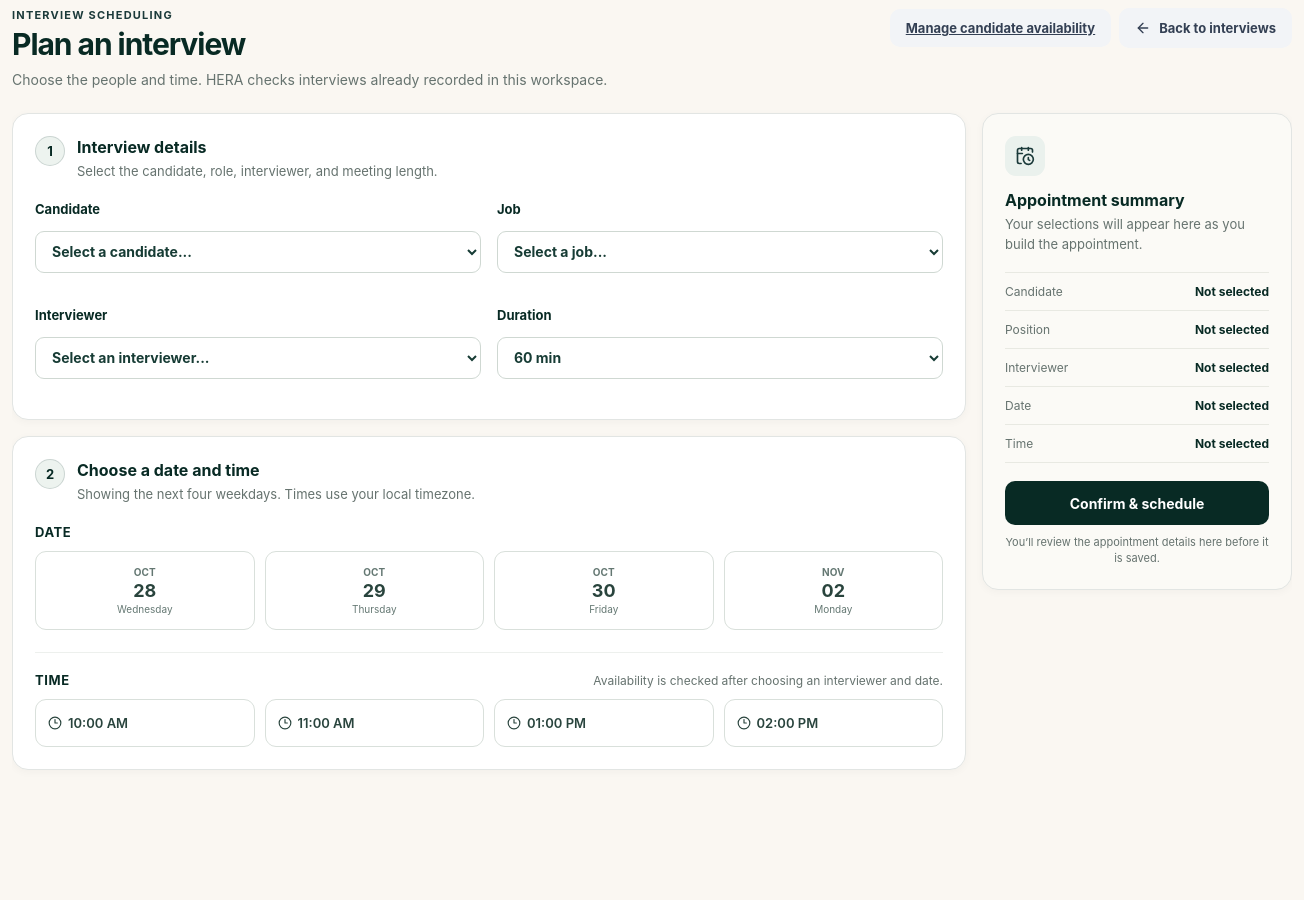
Test: ScheduleInterview › reports availability and scheduling failures without implying success
Expected: the heading "Interview details" is shown, [77, 137, 207, 157]
Select "Ada Lovelace — Engineer" in the dropdown labelled "Candidate" at {"x": 258, "y": 252}, box [35, 231, 481, 273]
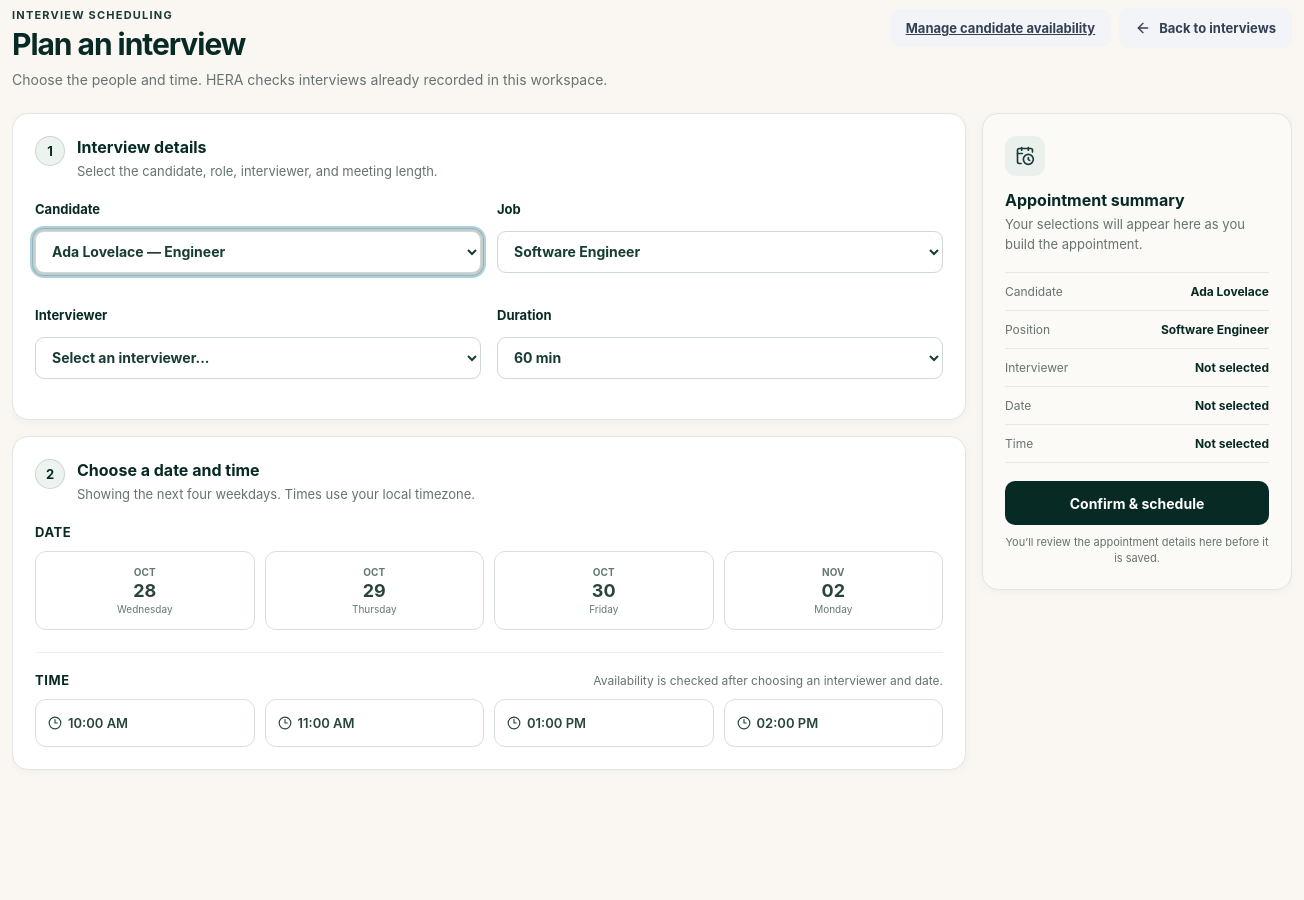
Select "Grace Hopper" in the dropdown labelled "Interviewer" at {"x": 258, "y": 358}, box [35, 337, 481, 379]
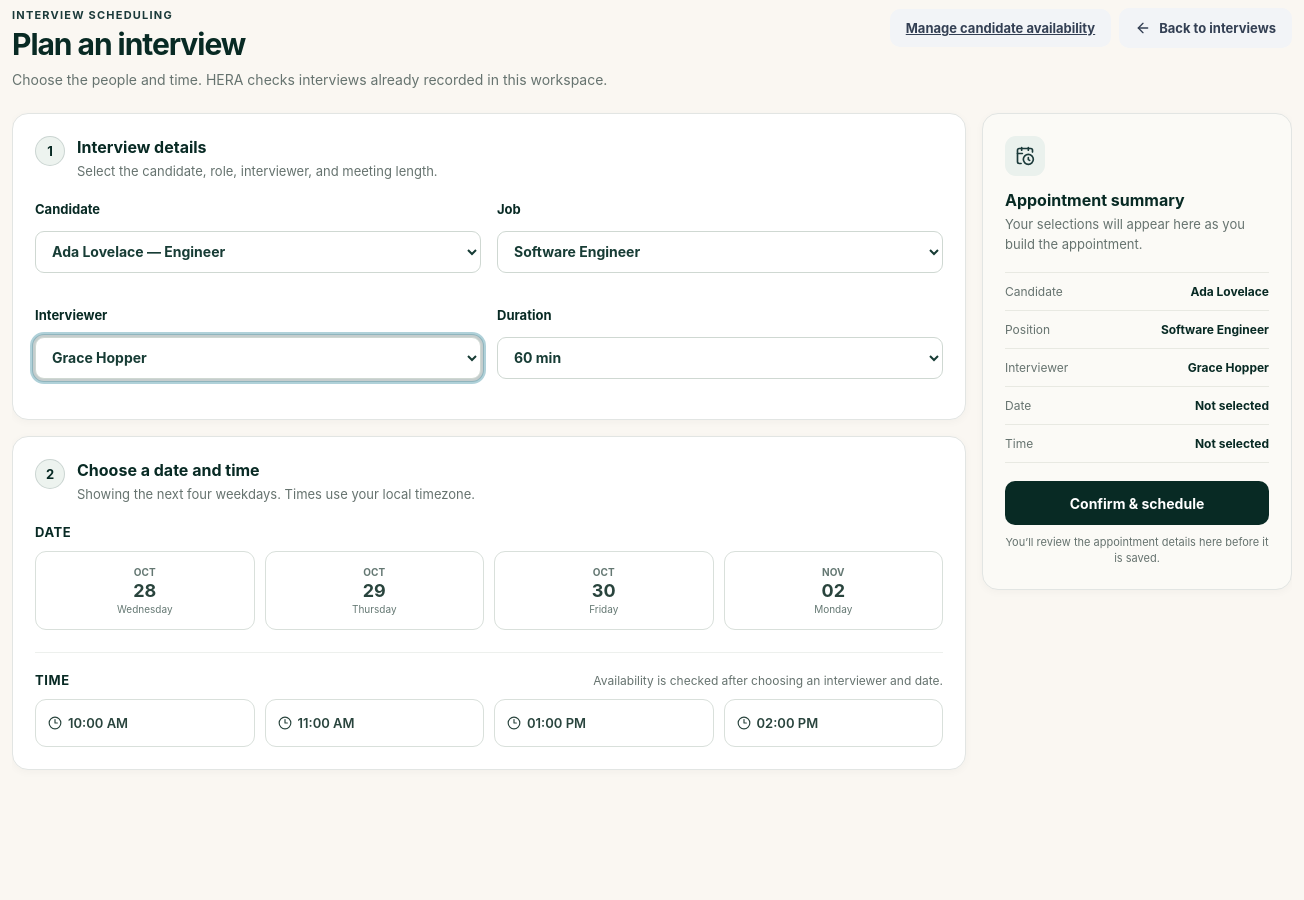
Click the button "OCT 28 Wednesday" at {"x": 145, "y": 590}, box [35, 551, 254, 630]
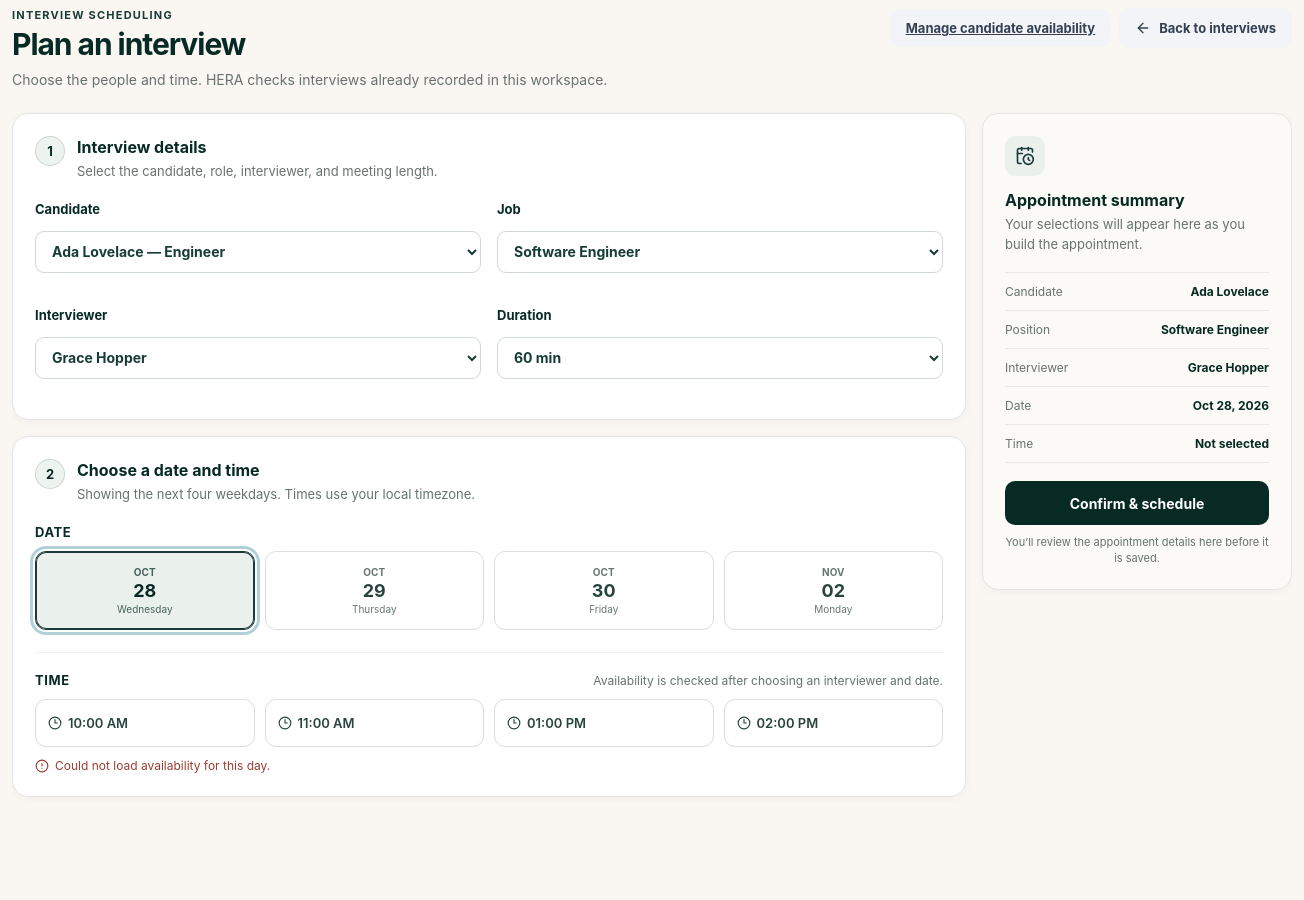
Expected: the message reads "Could not load availability for this day.", [55, 758, 270, 773]
Click the button "OCT 29 Thursday" at {"x": 374, "y": 590}, box [264, 551, 484, 630]
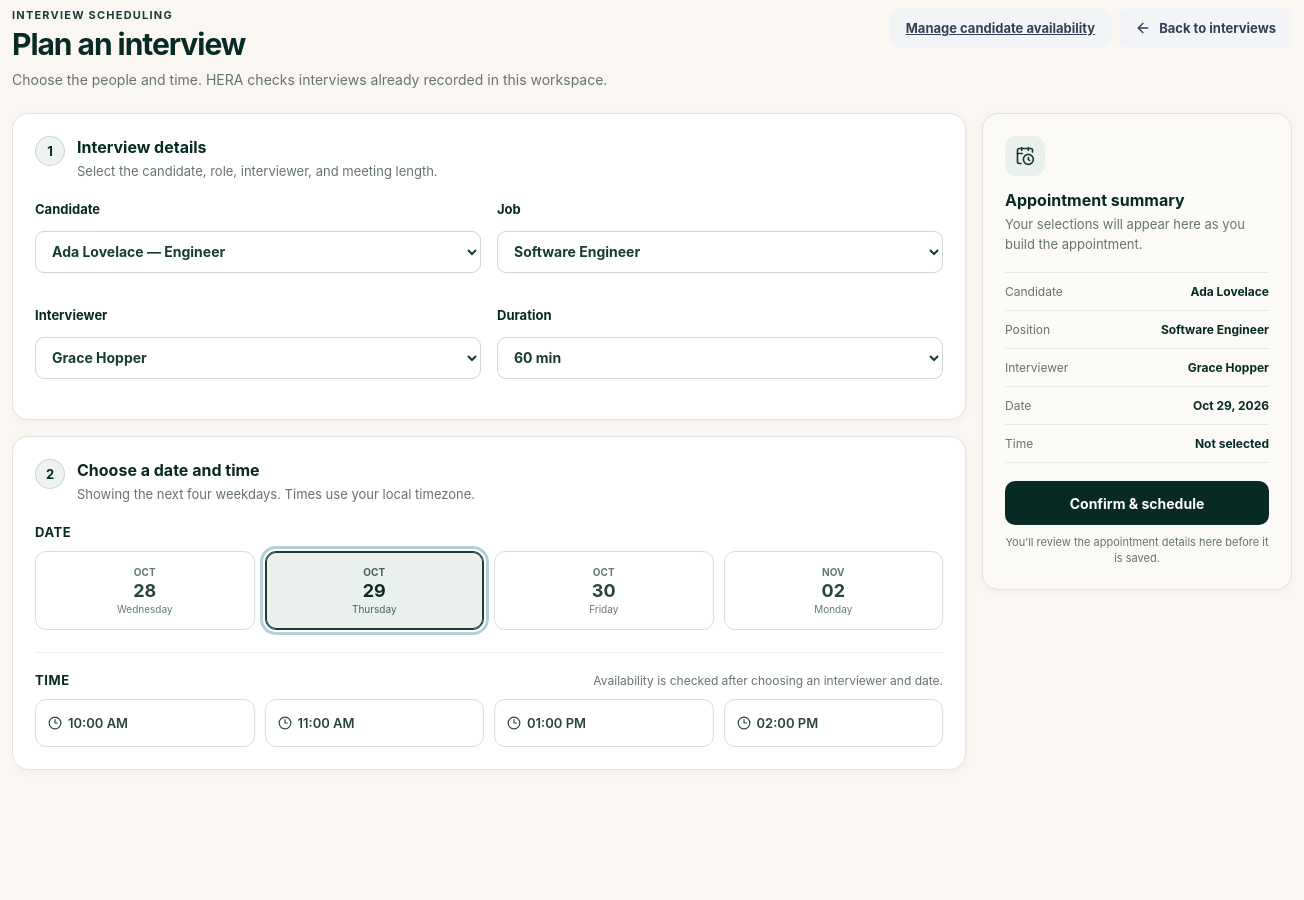
Click the button "10:00 AM" at {"x": 145, "y": 723}, box [35, 699, 254, 747]
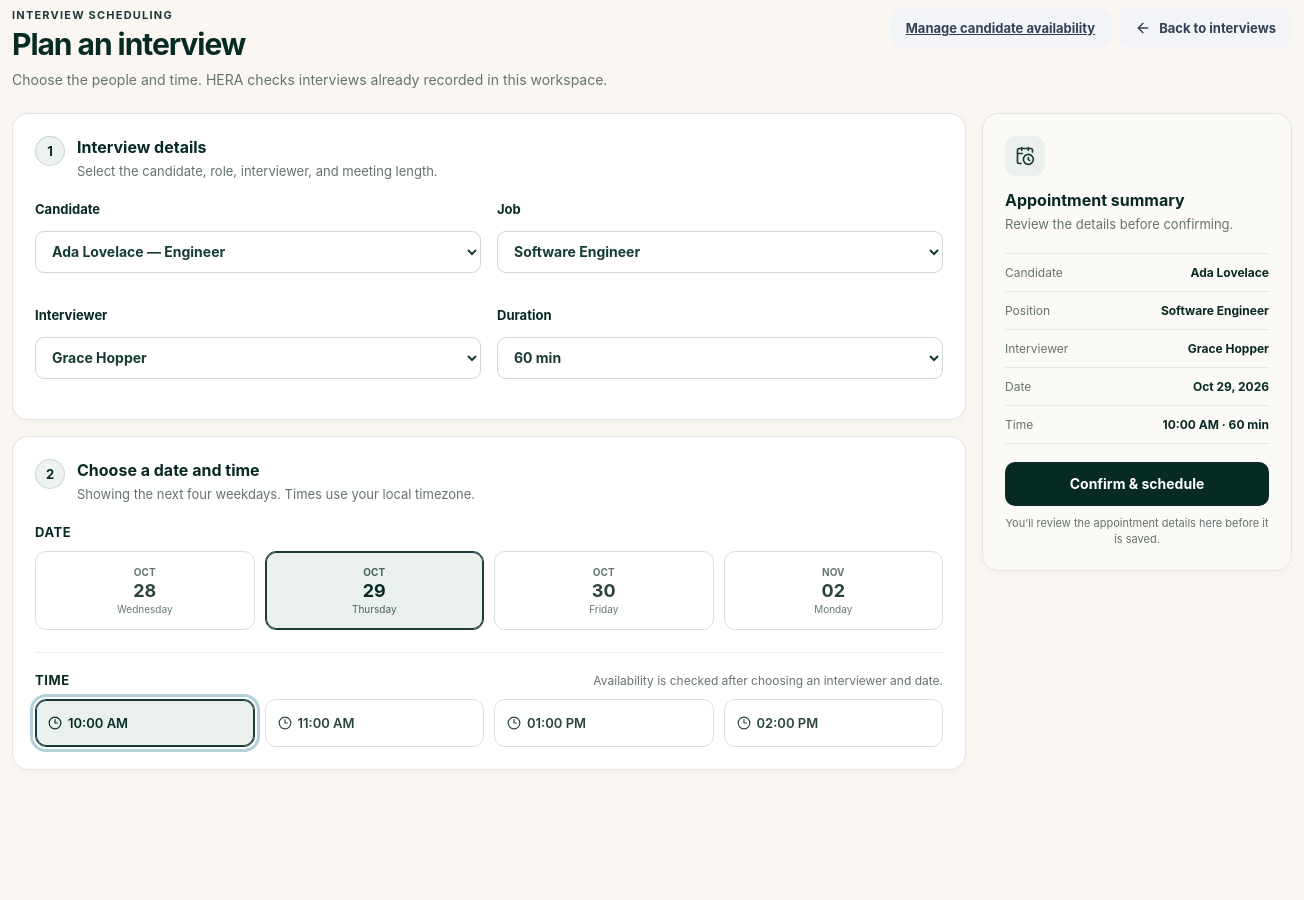
Click the button "Confirm & schedule" at {"x": 1137, "y": 484}, box [1005, 462, 1269, 506]
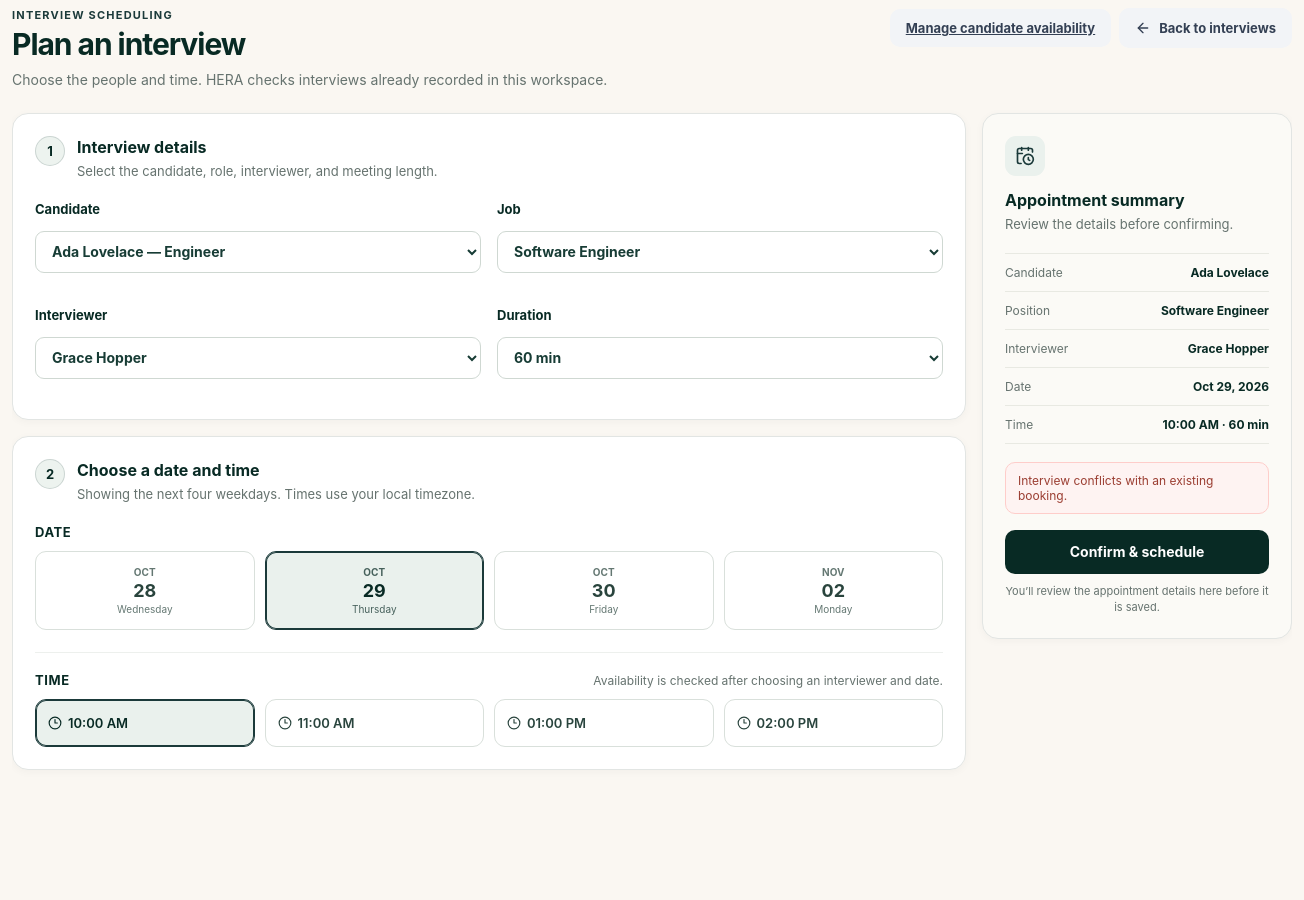
Expected: the message reads "Interview conflicts with an existing booking.", [1018, 473, 1213, 503]
